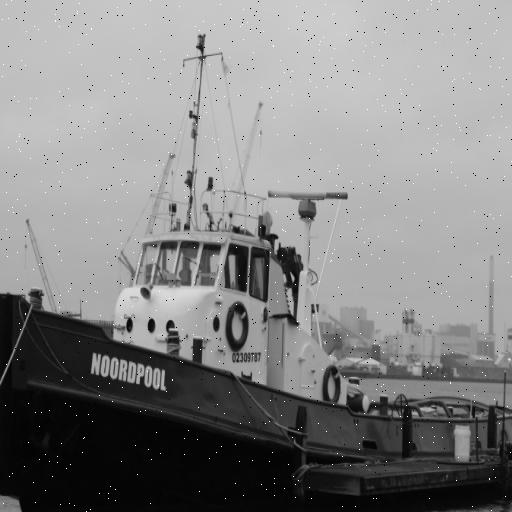tugboat: (1, 187, 512, 512)
